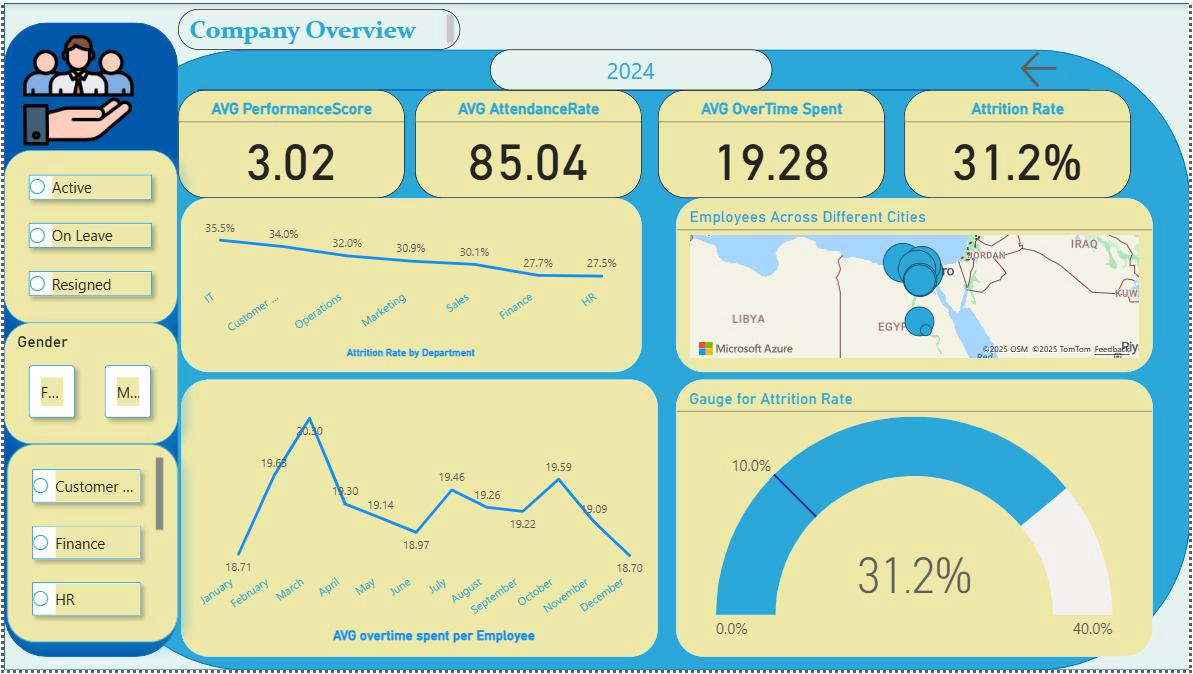

The page's visual inventory and layout, read from the dashboard file:
{"tool":"powerbi","page":{"name":"Page 2","canvas":[1280,720],"ordinal":2},"visuals":[{"type":"shape","box":[0,0,1281.5,720.4],"z":0},{"type":"shape","box":[95.5,50.2,1185.3,670.4],"z":1000},{"type":"shape","box":[0,21,187.8,684.9],"z":2000},{"type":"shape","box":[208.9,32.4,961.8,123.1],"z":3000},{"type":"textbox","box":[187.8,6.5,304.4,43.7],"z":4000},{"type":"card","title":"AVG PerformanceScore","fields":{"Values":["\"Measures\".\"AVG_performanceScore\""]},"box":[187.8,93.9,244.5,116.6],"z":5000},{"type":"card","title":"AVG AttendanceRate","fields":{"Values":["\"Measures\".\"Avg_Attendance\""]},"box":[443.7,93.9,244.5,116.6],"z":6000},{"type":"card","title":"AVG OverTime Spent","fields":{"Values":["\"Measures\".\"AVG_overtime\""]},"box":[706,93.9,244.5,116.6],"z":7000},{"type":"card","title":"Attrition Rate","fields":{"Values":["\"Measures\".Attrition_Rate"]},"box":[971.5,93.9,244.5,116.6],"z":8000},{"type":"image","box":[0,29.1,160.3,129.5],"z":9000},{"type":"lineChart","fields":{"Category":["FactEmployeePerformance (2).Month.Variation.Date Hierarchy.Month"],"Y":["\"Measures\".\"AVG_overtime\""]},"box":[191.1,406.4,514.9,299.6],"z":10000},{"type":"gauge","title":"Gauge for Attrition Rate","fields":{"Y":["\"Measures\".Attrition_Rate"],"MaxValue":["\"Measures\".Attrition Max"],"TargetValue":["\"Measures\".Attrition Target"]},"box":[725.4,406.4,514.9,299.6],"z":11000},{"type":"azureMap","title":"Employees Across Different Cities","fields":{"Size":["\"Measures\".Attrition_Rate"],"Category":["DimCity (2).CityName","DimCity (2).Country"]},"box":[725.4,210.5,527.9,187.8],"z":12000},{"type":"textbox","box":[524.6,50.2,304.4,43.7],"z":13000},{"type":"listSlicer","fields":{"Values":["DimEmployee (2).Status"]},"box":[0,158.4,187.4,187.4],"z":14000},{"type":"advancedSlicerVisual","fields":{"Values":["DimEmployee (2).Gender"]},"box":[0,344.9,187.8,131.2],"z":15000},{"type":"listSlicer","fields":{"Values":["DimDepartment (2).DepartmentName"]},"box":[3.2,476.1,184.6,213.7],"z":16000},{"type":"actionButton","box":[1092.6,47.1,109,49.5],"z":17000},{"type":"lineChart","fields":{"Y":["\"Measures\".Attrition_Rate"],"Category":["DimDepartment (2).DepartmentName"]},"box":[199.2,210.5,497.1,187.8],"z":18000}]}

Visuals, with their boxes in screenshot pixels (x1, y1, x2, y2), scaled from the page's 1280x720 canvas onto the 1193x674 screenshot:
shape: pyautogui.locateOnScreen(0, 0, 1192, 673)
shape: pyautogui.locateOnScreen(89, 47, 1192, 673)
shape: pyautogui.locateOnScreen(0, 20, 175, 661)
shape: pyautogui.locateOnScreen(195, 30, 1091, 146)
textbox: pyautogui.locateOnScreen(175, 6, 459, 47)
"AVG PerformanceScore" card: pyautogui.locateOnScreen(175, 88, 403, 197)
"AVG AttendanceRate" card: pyautogui.locateOnScreen(414, 88, 641, 197)
"AVG OverTime Spent" card: pyautogui.locateOnScreen(658, 88, 886, 197)
"Attrition Rate" card: pyautogui.locateOnScreen(905, 88, 1133, 197)
image: pyautogui.locateOnScreen(0, 27, 149, 148)
lineChart - FactEmployeePerformance (2).Month.Variation.Date Hierarchy.Month x "Measures"."AVG_overtime": pyautogui.locateOnScreen(178, 380, 658, 661)
"Gauge for Attrition Rate" gauge: pyautogui.locateOnScreen(676, 380, 1156, 661)
"Employees Across Different Cities" azureMap: pyautogui.locateOnScreen(676, 197, 1168, 373)
textbox: pyautogui.locateOnScreen(489, 47, 773, 88)
listSlicer - DimEmployee (2).Status: pyautogui.locateOnScreen(0, 148, 175, 324)
advancedSlicerVisual - DimEmployee (2).Gender: pyautogui.locateOnScreen(0, 323, 175, 446)
listSlicer - DimDepartment (2).DepartmentName: pyautogui.locateOnScreen(3, 446, 175, 646)
actionButton: pyautogui.locateOnScreen(1018, 44, 1120, 90)
lineChart - "Measures".Attrition_Rate x DimDepartment (2).DepartmentName: pyautogui.locateOnScreen(186, 197, 649, 373)
